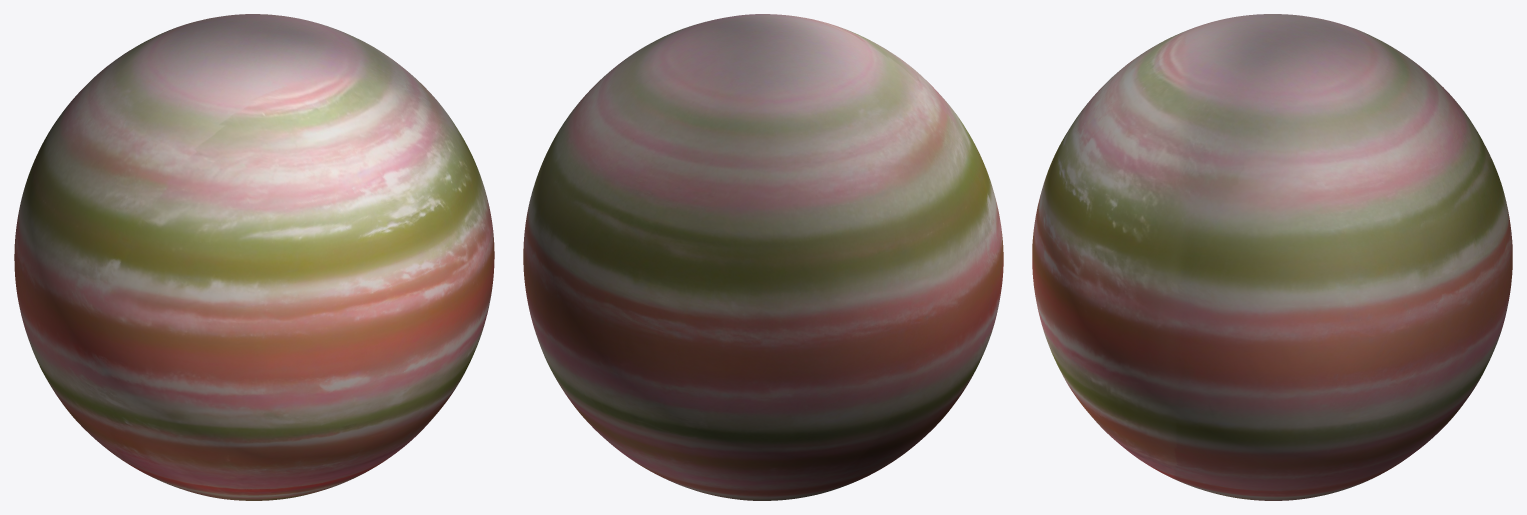
File: Kepler_60_d_0919232010.glb
3 views of the same model, side by side, from view 1: azimuth 30°, elevation 25°; view 2: azimuth 150°, elevation 25°; view 3: azimuth 270°, elevation 25° (orthographic).
Size of the model in its own units: 1.62 by 1.64 by 1.61.
1 material, 1 textured.
